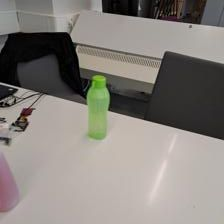bottle: (85, 74, 111, 141)
